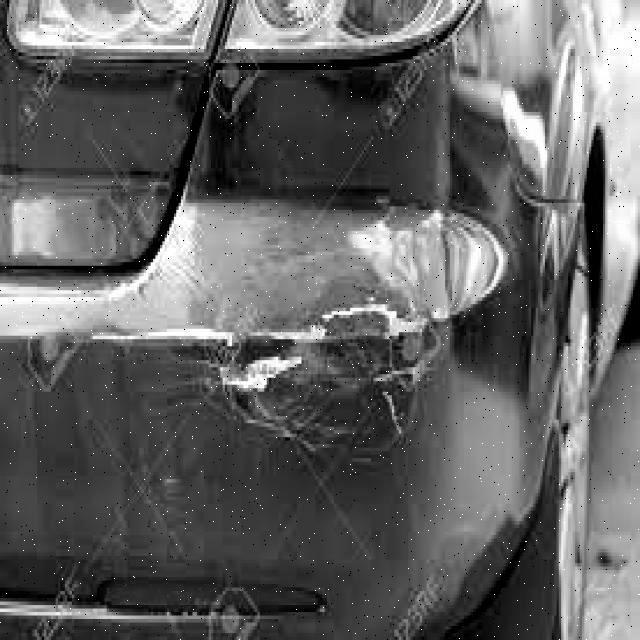rear-bumper-dent: (9, 215, 579, 638)
